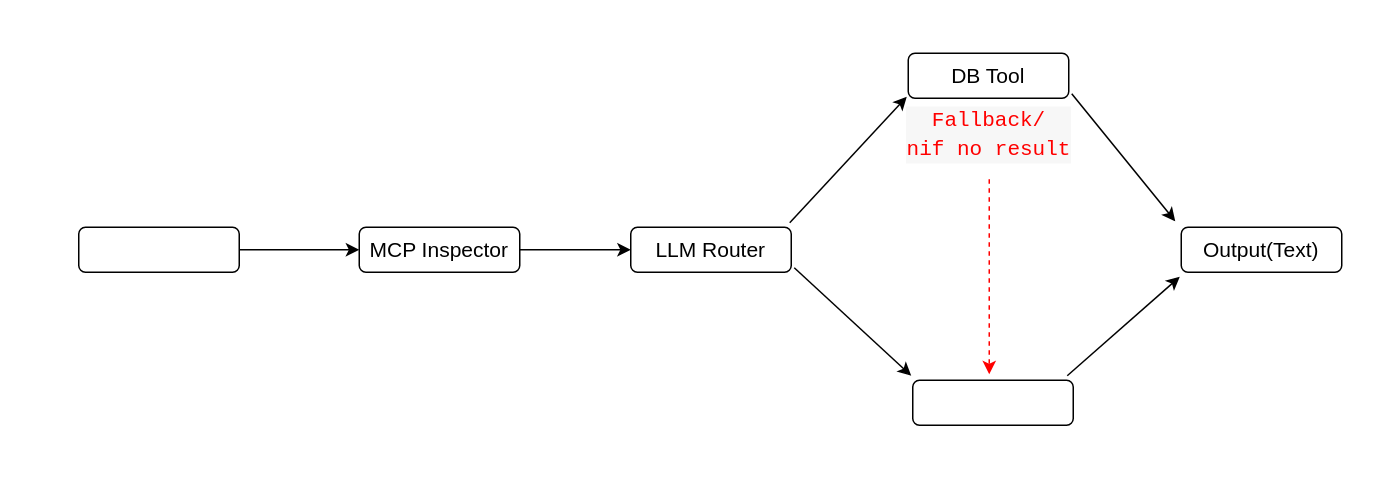
This 1389x477 diagram has some shape labels left out. Each missing label, with the centre of its shape:
"User Input" goes at (x=158, y=249).
"Web Tool" goes at (x=992, y=402).
